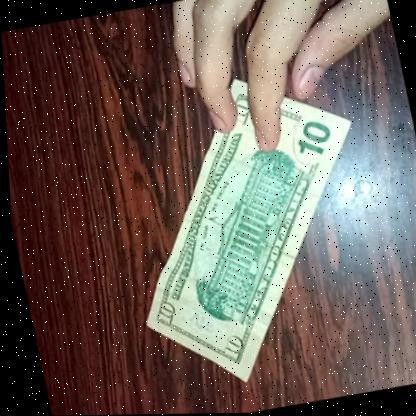ten-back: (93, 68, 400, 399)
